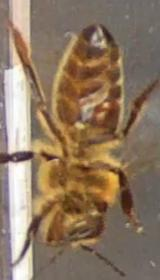varroa_mite: (85, 91, 122, 119)
